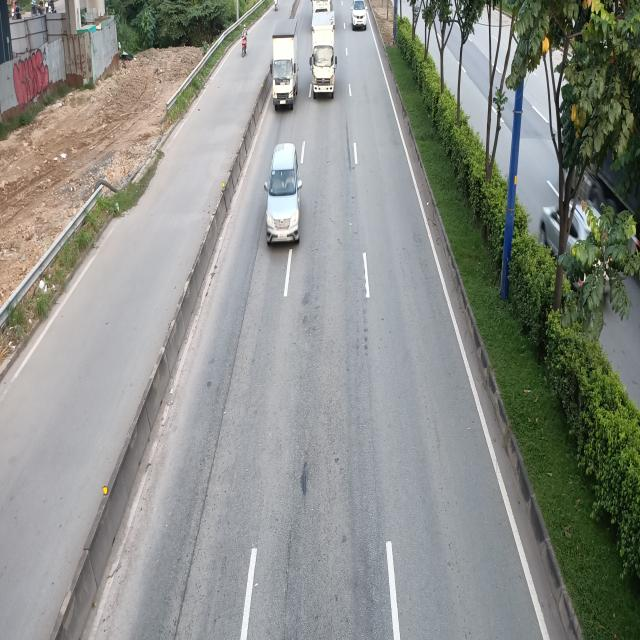car: (265, 144, 303, 248), (351, 0, 368, 29)
truck: (271, 17, 299, 109), (310, 11, 338, 99)
